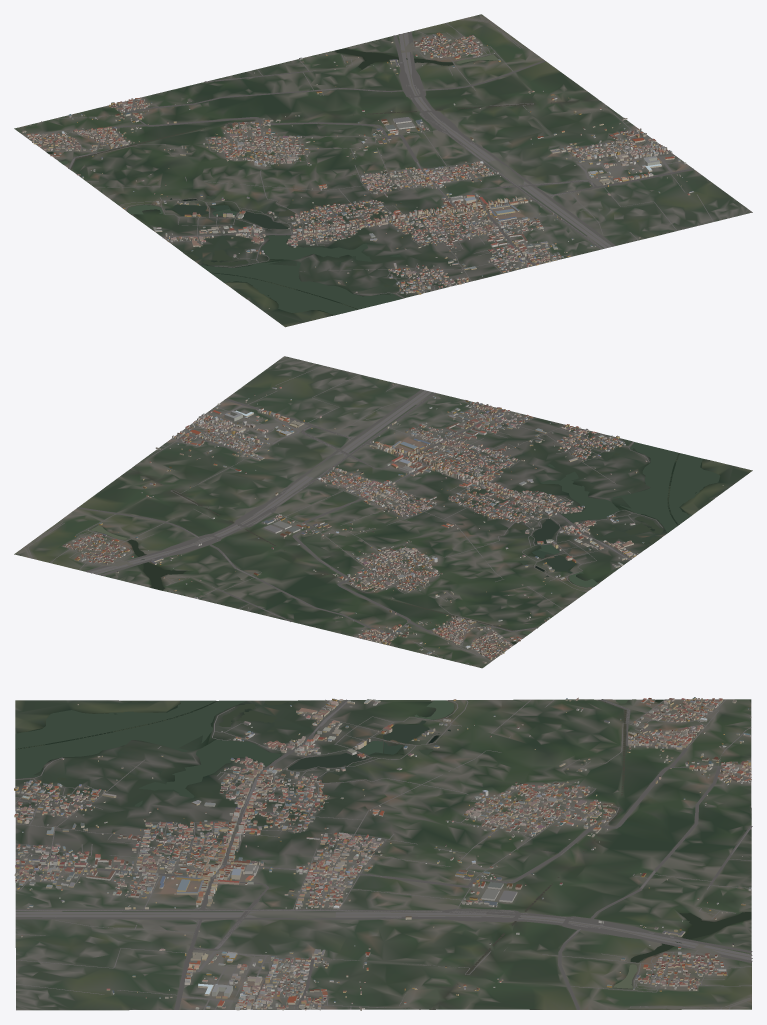
3 views of the same model, one above another, from view 1: azimuth 30°, elevation 25°; view 2: azimuth 150°, elevation 25°; view 3: azimuth 270°, elevation 25° (orthographic). The views are drawn at different scales.
Visible parts, largest first — view 1: ground, buildings, roads, water; view 2: ground, buildings, roads, water; view 3: ground, buildings, roads, water.
Part boxes in pixels (<box>): ground: <box>14,14,752,327</box>; buildings: <box>22,32,693,308</box>; roads: <box>23,18,713,298</box>; water: <box>47,48,570,314</box>; ground: <box>14,356,752,668</box>; buildings: <box>62,384,723,664</box>; roads: <box>22,365,662,661</box>; water: <box>90,442,719,644</box>; ground: <box>15,699,751,1010</box>; buildings: <box>14,697,751,1010</box>; roads: <box>15,699,752,1009</box>; water: <box>15,699,751,994</box>.
Size of the model in its own units: 2816 by 32.48 by 2815.
